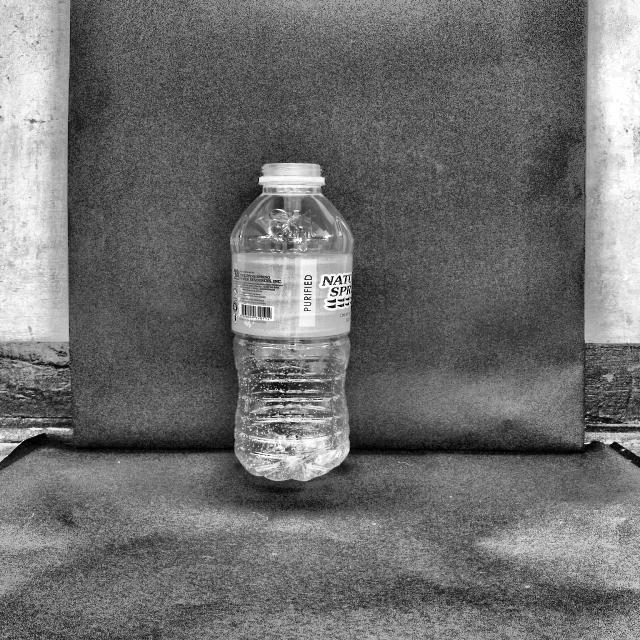Plastic-Bottle: (229, 162, 356, 484)
